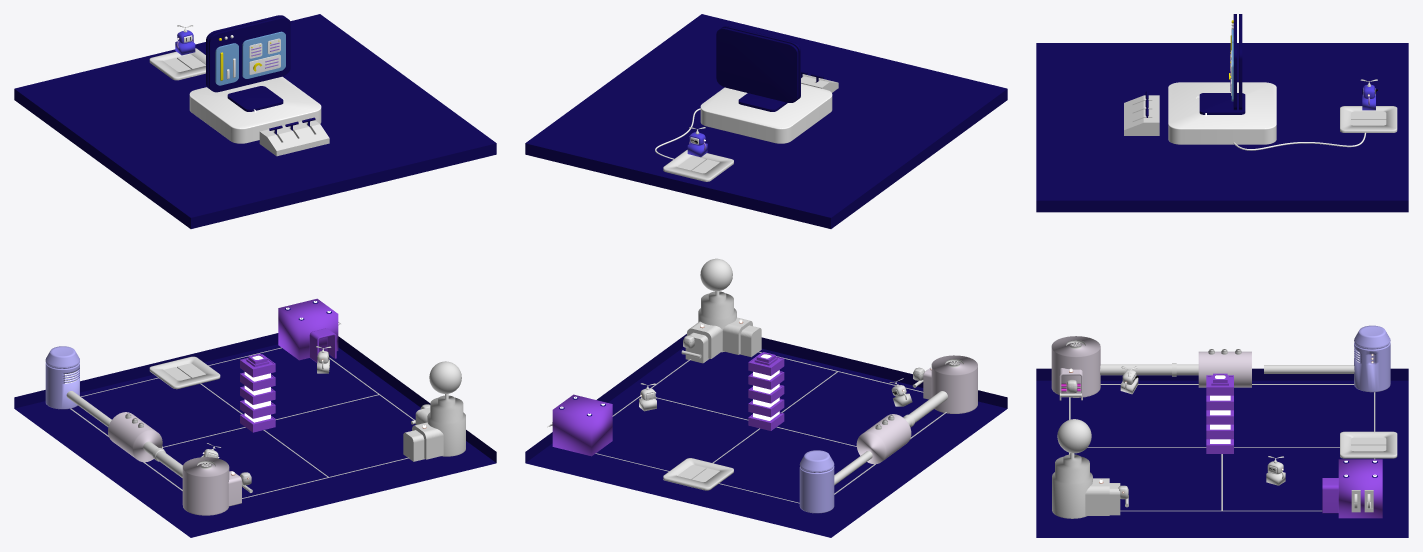
File: screen.gltf
3 views of the same model, side by side, from view 1: azimuth 30°, elevation 25°; view 2: azimuth 150°, elevation 25°; view 3: azimuth 270°, elevation 25° (orthographic). The views are drawn at different scales.
Parts seen in each view (by area): view 1: floor, floor.001, Cube, Cube.056, Circle.040, Cube.003, Cube.052, Cylinder.009, Circle.041, Cube.025, Circle.022, Plane.011 (+9 smaller); view 2: floor, floor.001, Cube.002, Cube, Cube.056, Circle.040, Cube.052, Cylinder.009, Circle.022, Circle.041, Plane.011, Plane.009 (+5 smaller); view 3: floor, floor.001, Cube, Circle.040, Cube.056, Cylinder.009, Circle.041, Cube.052, Circle.022, Cube.025, Plane.009, Circle.027 (+9 smaller).
Boxes of the visible parts, box(x1,y1,x2,y2) form: floor: box(14, 14, 496, 228); floor.001: box(14, 333, 496, 537); Cube: box(189, 76, 321, 143); Cube.056: box(278, 298, 338, 360); Circle.040: box(182, 457, 229, 515); Cube.003: box(208, 17, 290, 92); Cube.052: box(240, 353, 275, 432); Cylinder.009: box(45, 346, 79, 409); Circle.041: box(427, 393, 465, 456); Cube.025: box(259, 120, 329, 156); Circle.022: box(108, 412, 162, 462); Plane.011: box(70, 347, 414, 498); floor: box(525, 14, 1007, 228); floor.001: box(525, 334, 1007, 537); Cube.002: box(716, 28, 798, 102); Cube: box(700, 83, 832, 143); Cube.056: box(552, 394, 612, 456); Circle.040: box(931, 355, 977, 413); Cube.052: box(748, 352, 784, 430); Cylinder.009: box(799, 450, 834, 513); Circle.022: box(856, 414, 911, 464); Circle.041: box(698, 291, 736, 352); Plane.011: box(595, 351, 946, 503); Plane.009: box(663, 458, 733, 490); floor: box(1036, 43, 1408, 212); floor.001: box(1036, 368, 1408, 537); Cube: box(1168, 82, 1276, 144); Circle.040: box(1051, 336, 1100, 397); Cube.056: box(1338, 459, 1382, 518); Cylinder.009: box(1354, 325, 1390, 392); Circle.041: box(1052, 453, 1092, 518); Cube.052: box(1206, 373, 1233, 453); Circle.022: box(1198, 351, 1251, 387); Cube.025: box(1124, 95, 1159, 135); Plane.009: box(1340, 431, 1397, 458); Circle.027: box(1100, 364, 1198, 375).
Bounding box in the file's own units: 8.83 × 11.19 × 8.83.
